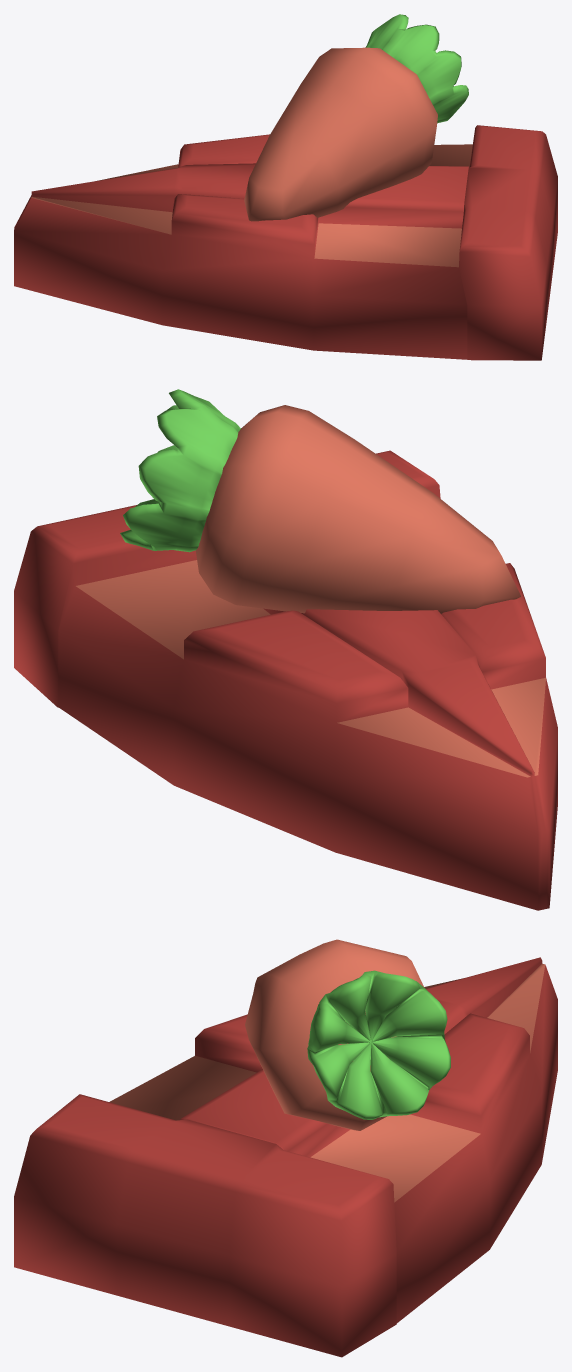
The model's file is Carrot_Pie_Food.glb.
3 views of the same model, one above another, from view 1: azimuth 30°, elevation 25°; view 2: azimuth 150°, elevation 25°; view 3: azimuth 270°, elevation 25° (orthographic). The views are drawn at different scales.
Visible parts, largest first — view 1: Carrot_Pie_Food; view 2: Carrot_Pie_Food; view 3: Carrot_Pie_Food.
Boxes of the visible parts, left/top/right/bottom form: Carrot_Pie_Food: left=14, top=14, right=557, bottom=360; Carrot_Pie_Food: left=14, top=389, right=557, bottom=910; Carrot_Pie_Food: left=14, top=939, right=557, bottom=1357.
Bounding box in the file's own units: 0.114 × 0.0547 × 0.0904.
Materials: 1 (1 with a texture image).
